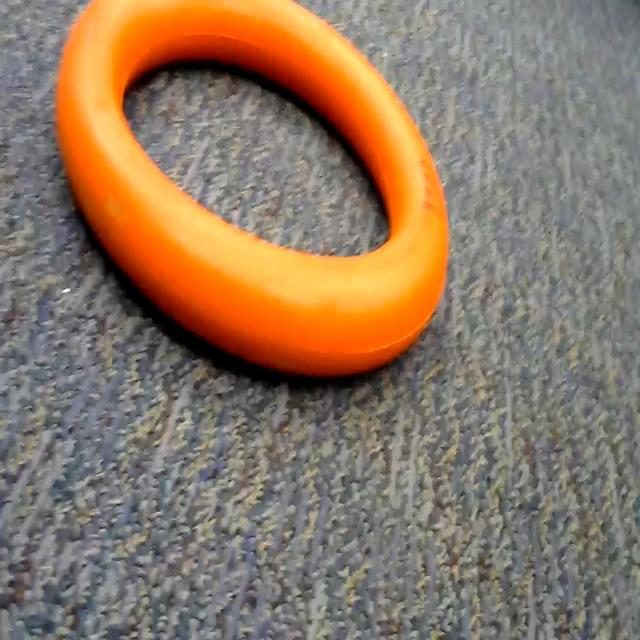note: (41, 0, 468, 396)
